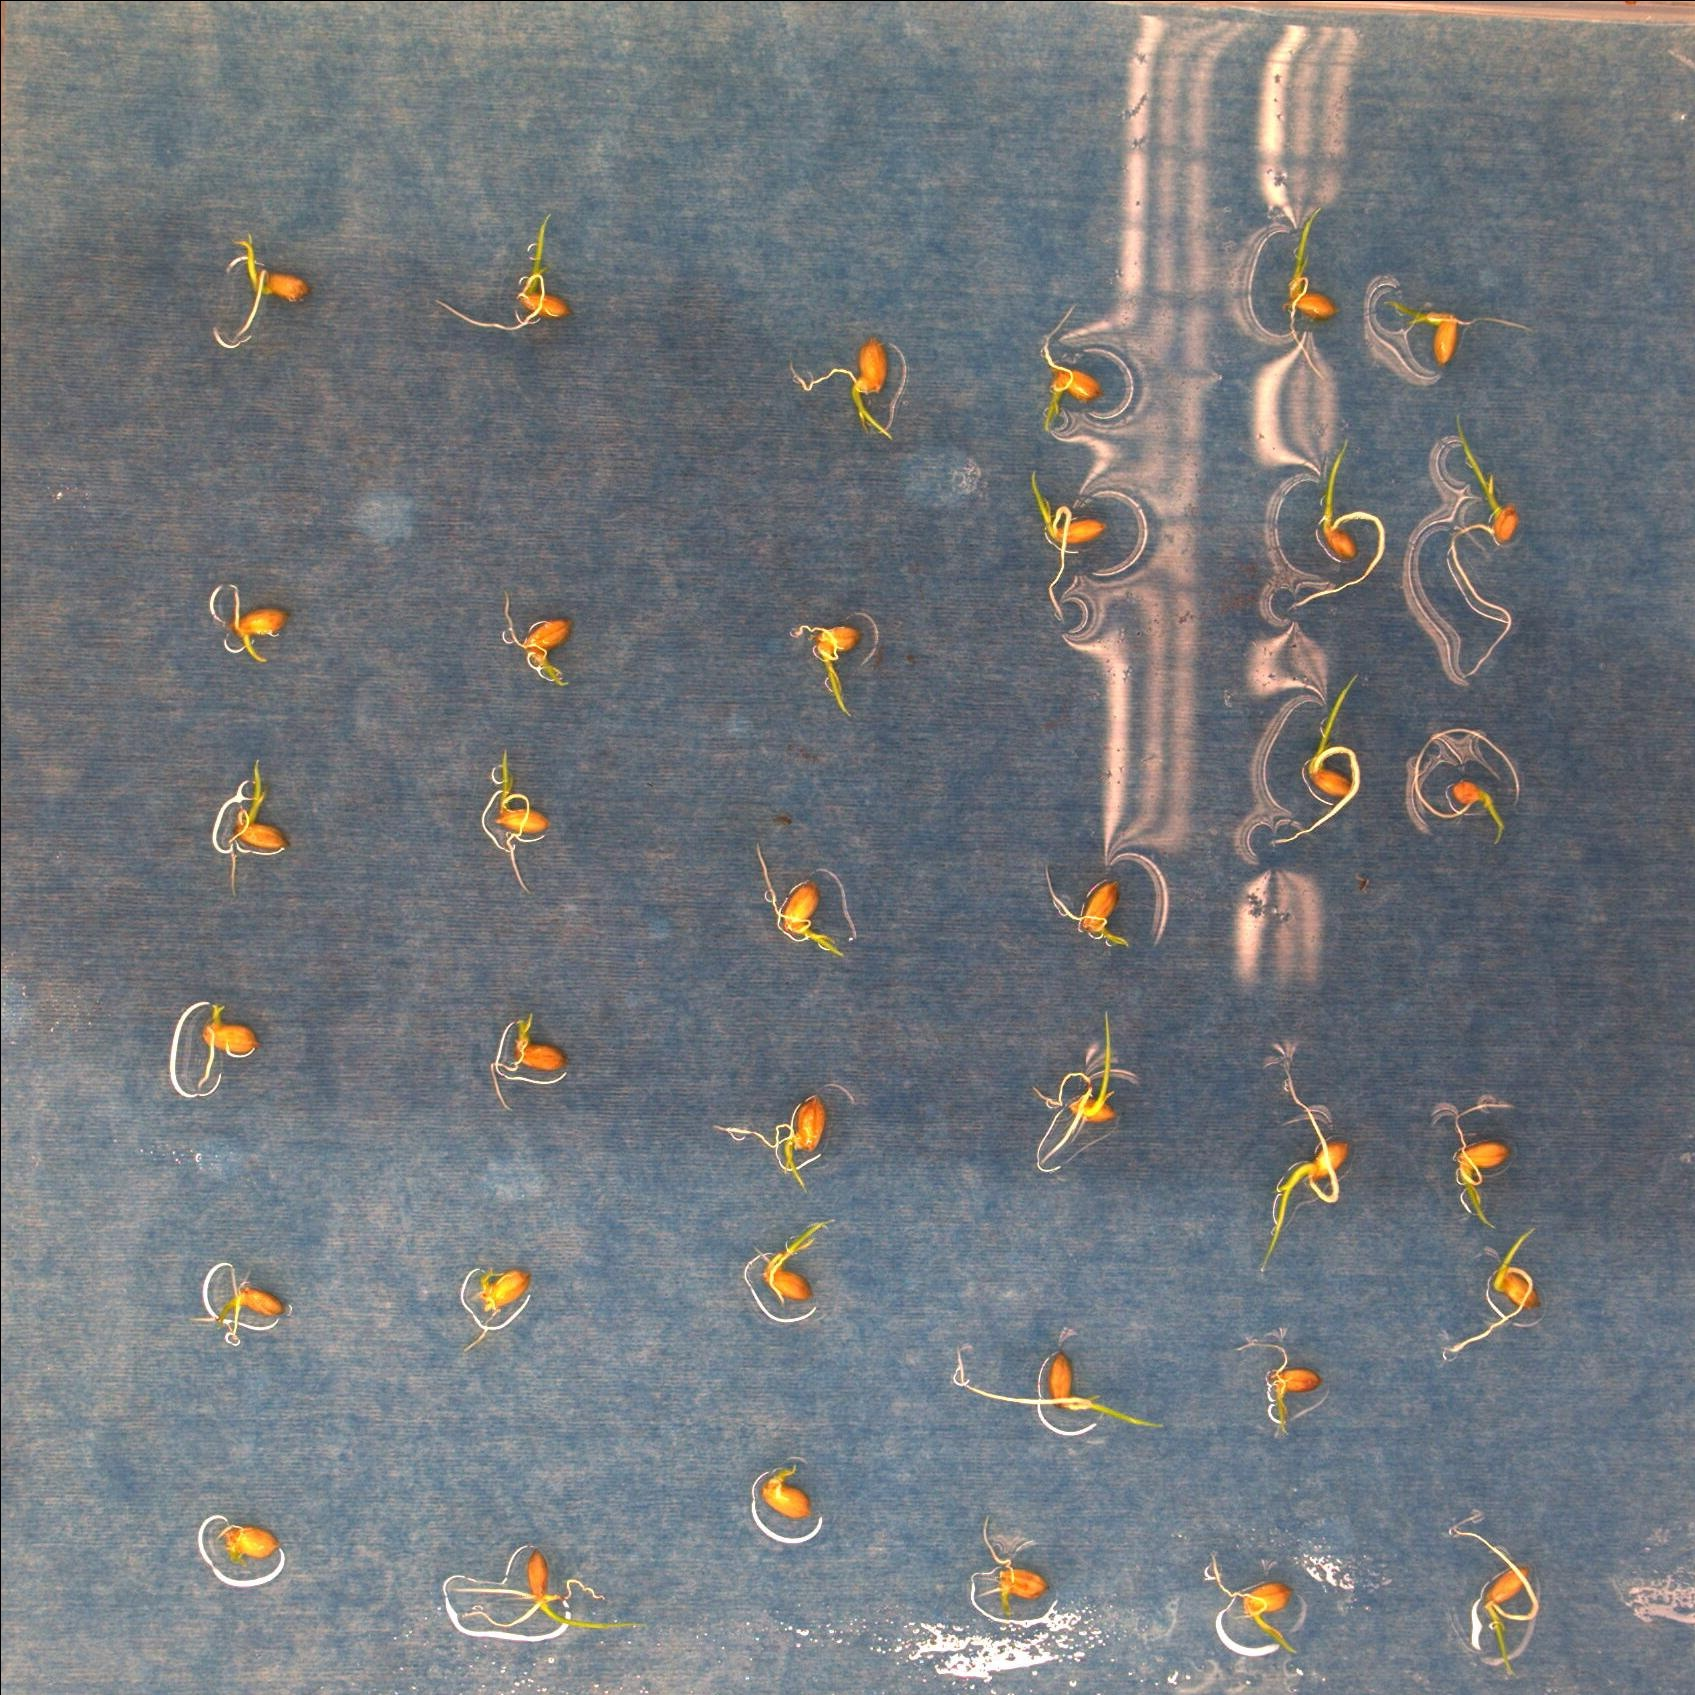not sprout: (199, 1000, 258, 1094), (497, 1014, 571, 1087), (757, 1461, 813, 1520), (220, 1521, 278, 1565)
sprout: (945, 1333, 1170, 1434), (1257, 1054, 1357, 1274), (1450, 408, 1518, 678), (428, 210, 576, 334), (1287, 436, 1389, 612), (1271, 667, 1367, 849), (452, 1551, 647, 1636), (1444, 1512, 1541, 1679), (1440, 1226, 1544, 1361), (1035, 1012, 1122, 1170), (1024, 466, 1108, 626), (787, 331, 902, 447), (750, 837, 851, 962), (1412, 726, 1520, 844), (480, 747, 554, 900), (1201, 1554, 1309, 1659), (1385, 292, 1538, 365), (1277, 200, 1340, 380), (714, 1094, 830, 1189), (210, 757, 290, 893), (225, 230, 312, 348), (1431, 1097, 1506, 1232), (1040, 863, 1136, 958), (1035, 301, 1104, 432), (1232, 1338, 1322, 1434), (751, 1211, 838, 1310), (497, 590, 581, 692), (972, 1518, 1055, 1616), (789, 616, 865, 719), (463, 1260, 531, 1357), (189, 1271, 290, 1332), (224, 581, 289, 663)
